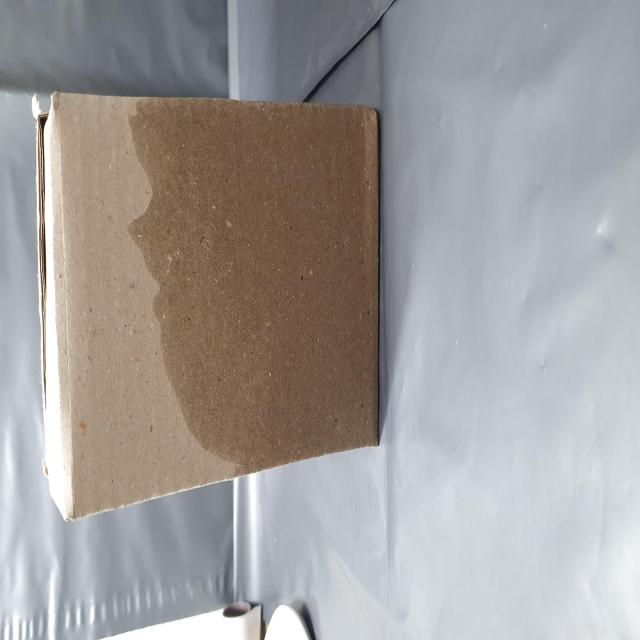wet: (75, 71, 304, 640)
